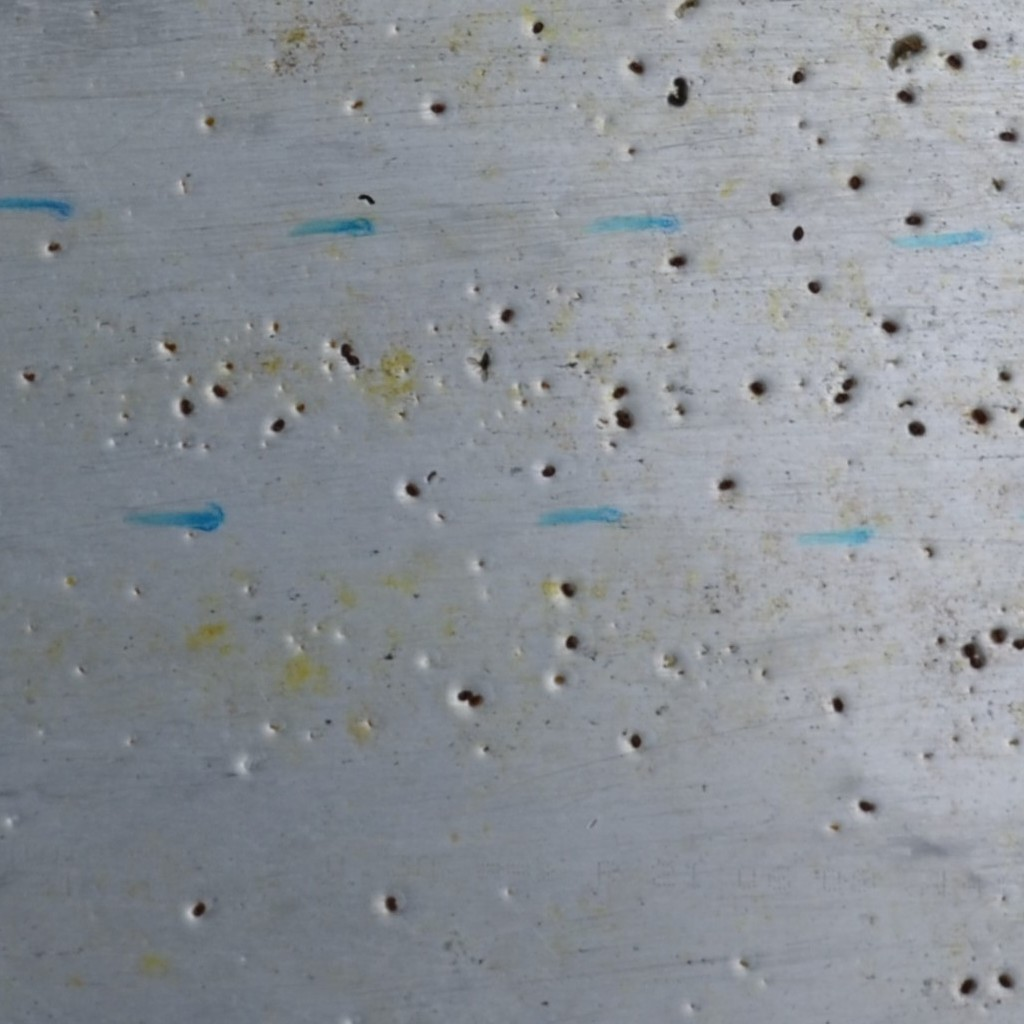varroa: (846, 169, 867, 196), (894, 85, 917, 106), (907, 414, 926, 438), (903, 209, 926, 228), (833, 388, 852, 409), (956, 975, 975, 996), (830, 692, 845, 718), (746, 379, 767, 397), (558, 578, 575, 600), (385, 892, 399, 918), (879, 317, 900, 334), (769, 188, 785, 210), (667, 88, 686, 106), (627, 58, 645, 77), (539, 462, 558, 480), (790, 65, 807, 85), (667, 252, 687, 269), (612, 382, 629, 402), (970, 407, 988, 425), (970, 35, 989, 52), (997, 970, 1014, 989), (628, 729, 645, 748), (790, 223, 806, 243), (989, 625, 1007, 642), (428, 99, 446, 116), (178, 397, 194, 416), (997, 128, 1017, 143), (564, 631, 579, 651), (405, 478, 419, 499), (947, 53, 963, 71), (858, 797, 874, 815), (500, 306, 516, 324), (269, 416, 284, 435), (717, 478, 737, 491), (530, 20, 546, 36), (807, 277, 822, 294), (967, 654, 985, 668), (960, 641, 977, 655), (339, 340, 352, 358), (998, 366, 1013, 381), (457, 688, 473, 702), (192, 899, 205, 916), (346, 353, 360, 368), (615, 418, 634, 429), (673, 74, 689, 87), (614, 409, 631, 421), (468, 695, 482, 708), (1011, 635, 1023, 650), (842, 377, 855, 389), (1018, 415, 1023, 429)
